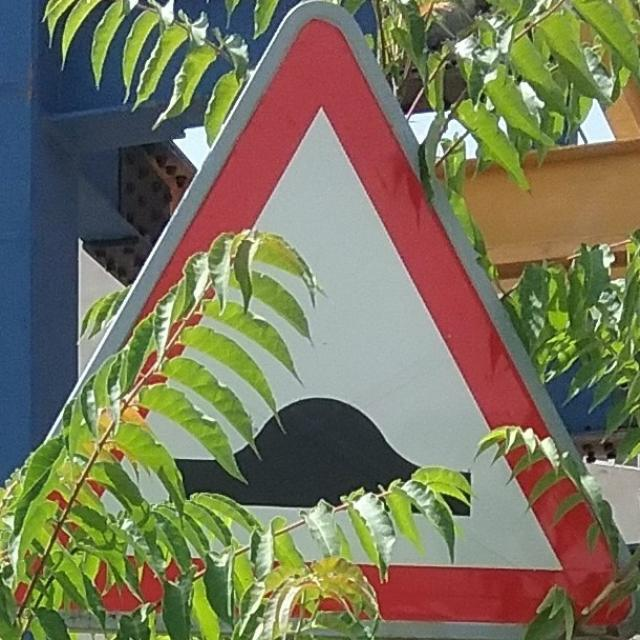HUMP_OR_ROUGH_ROAD: (17, 20, 627, 624)
